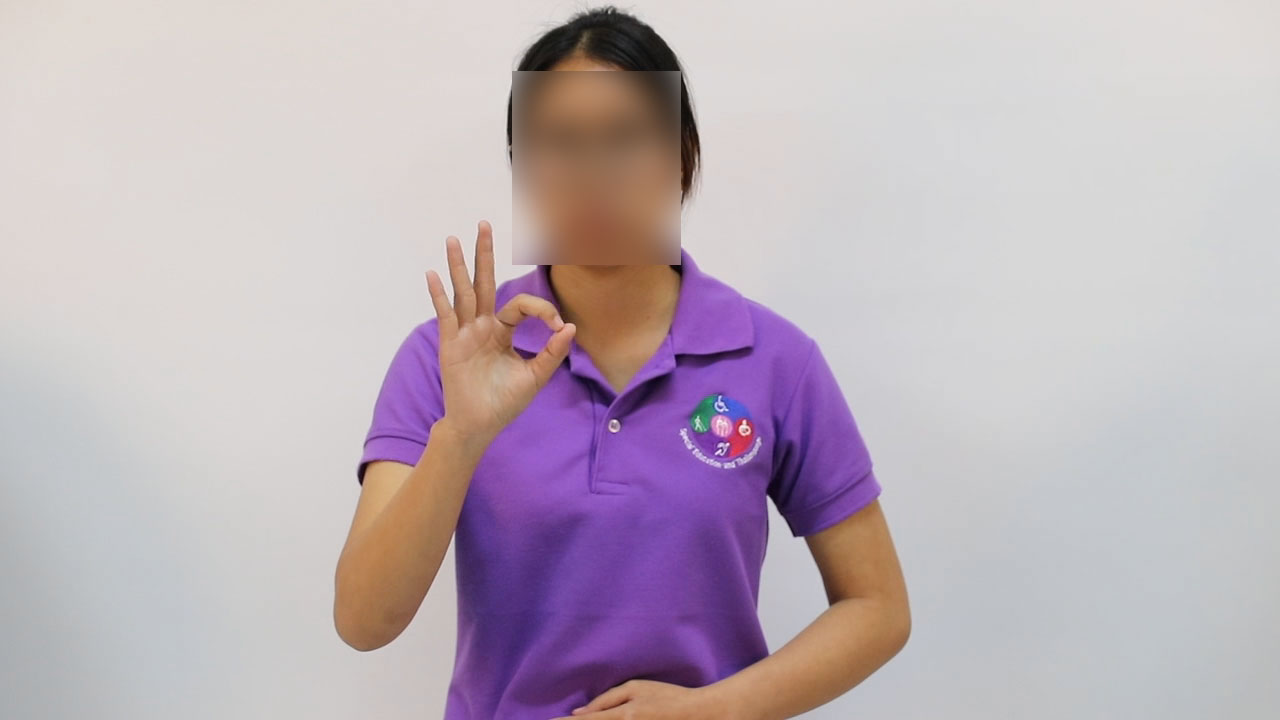for: (405, 211, 586, 438)
